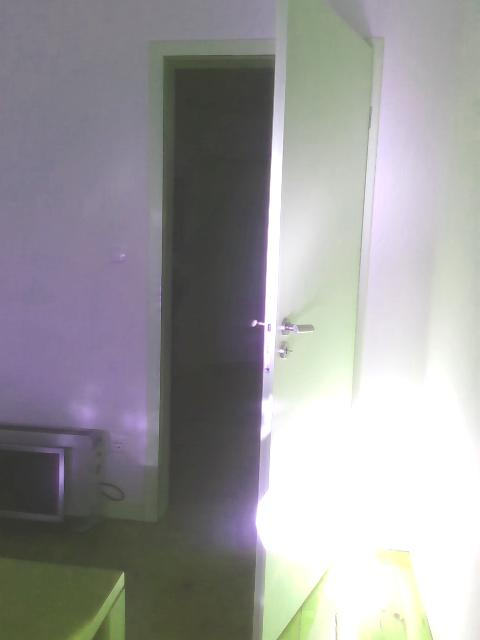semi_door: (145, 1, 379, 639)
